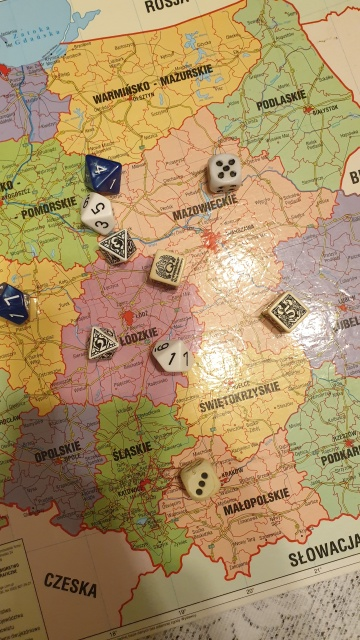d10-1: (150, 337, 197, 379)
d10-4: (79, 147, 125, 194)
d10-5: (70, 188, 117, 238)
d10-7: (1, 280, 34, 327)
d6-3: (181, 459, 221, 502)
d6-5: (208, 155, 241, 186)
d6p-5: (257, 288, 308, 336)
d6p-6: (150, 249, 185, 285)
d8p-2: (83, 324, 124, 367)
d8p-3: (94, 229, 139, 264)
